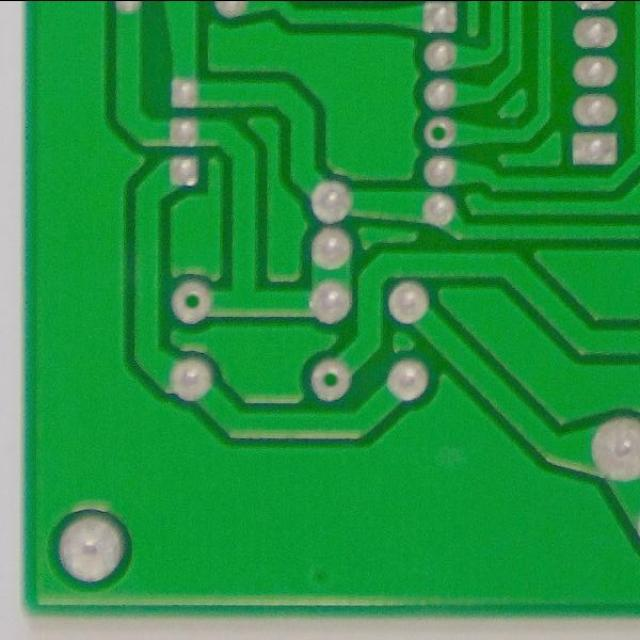Missing_Hole: (163, 275, 221, 330), (303, 352, 360, 405), (417, 113, 462, 153)
